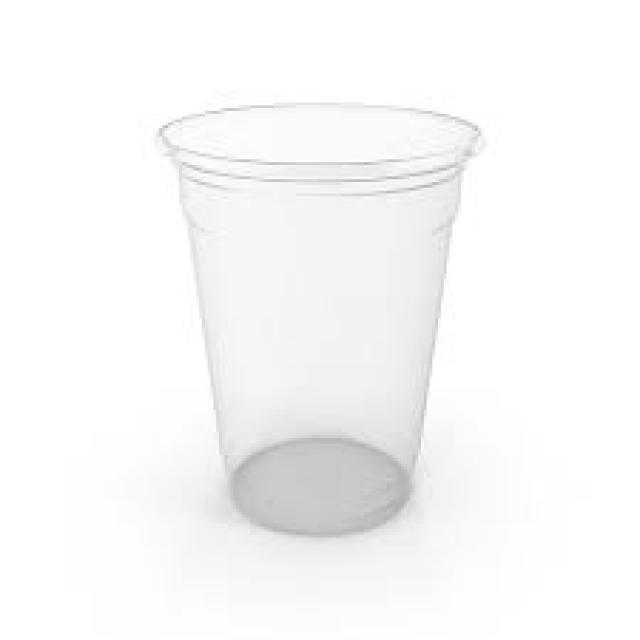cup: (155, 104, 481, 546)
